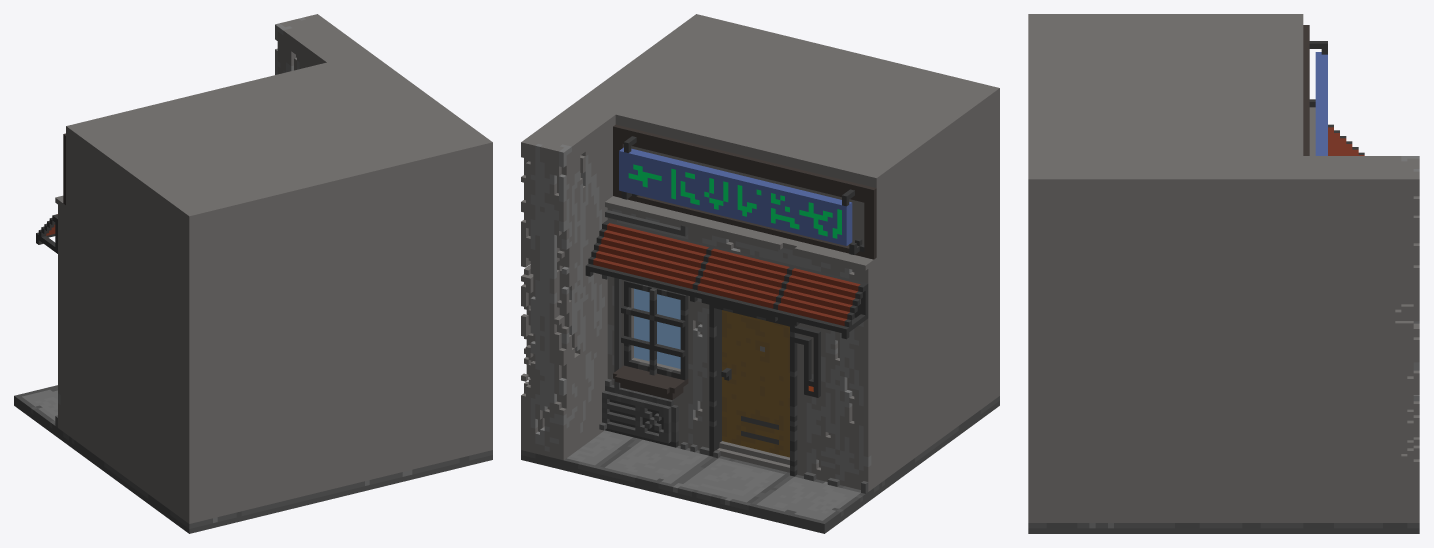
File: MapWIP_v02-31.obj
3 views of the same model, side by side, from view 1: azimuth 30°, elevation 25°; view 2: azimuth 150°, elevation 25°; view 3: azimuth 270°, elevation 25° (orthographic). The views are drawn at different scales.
Size of the model in its own units: 6.4 by 6.4 by 6.4.
Materials: 1 (1 with a texture image).
